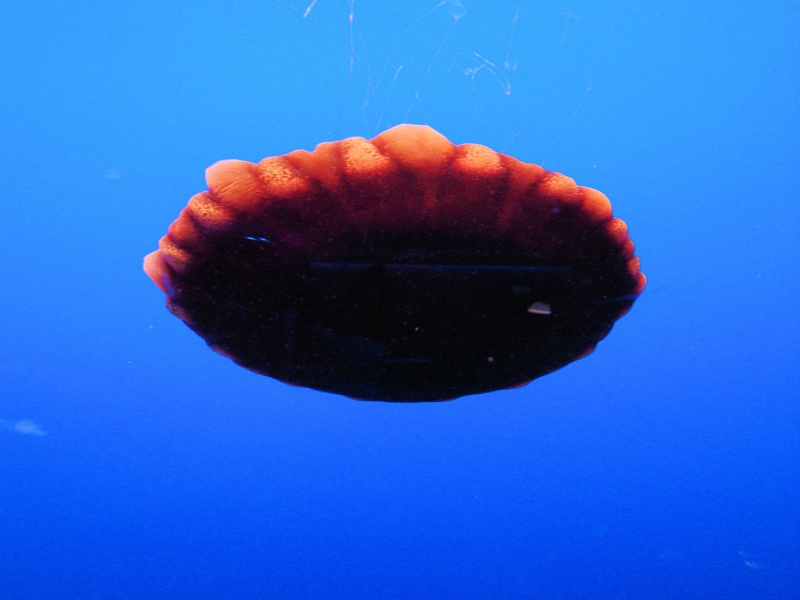Jellyfish: (133, 115, 660, 397)
